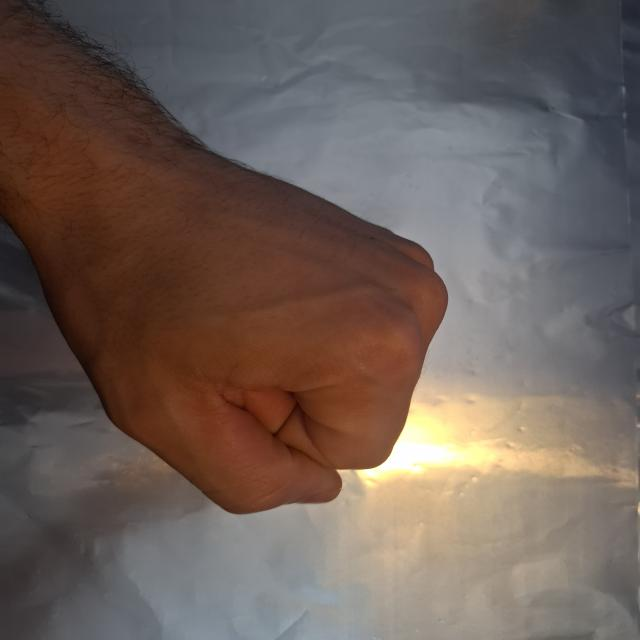glove_off: (19, 137, 452, 517)
